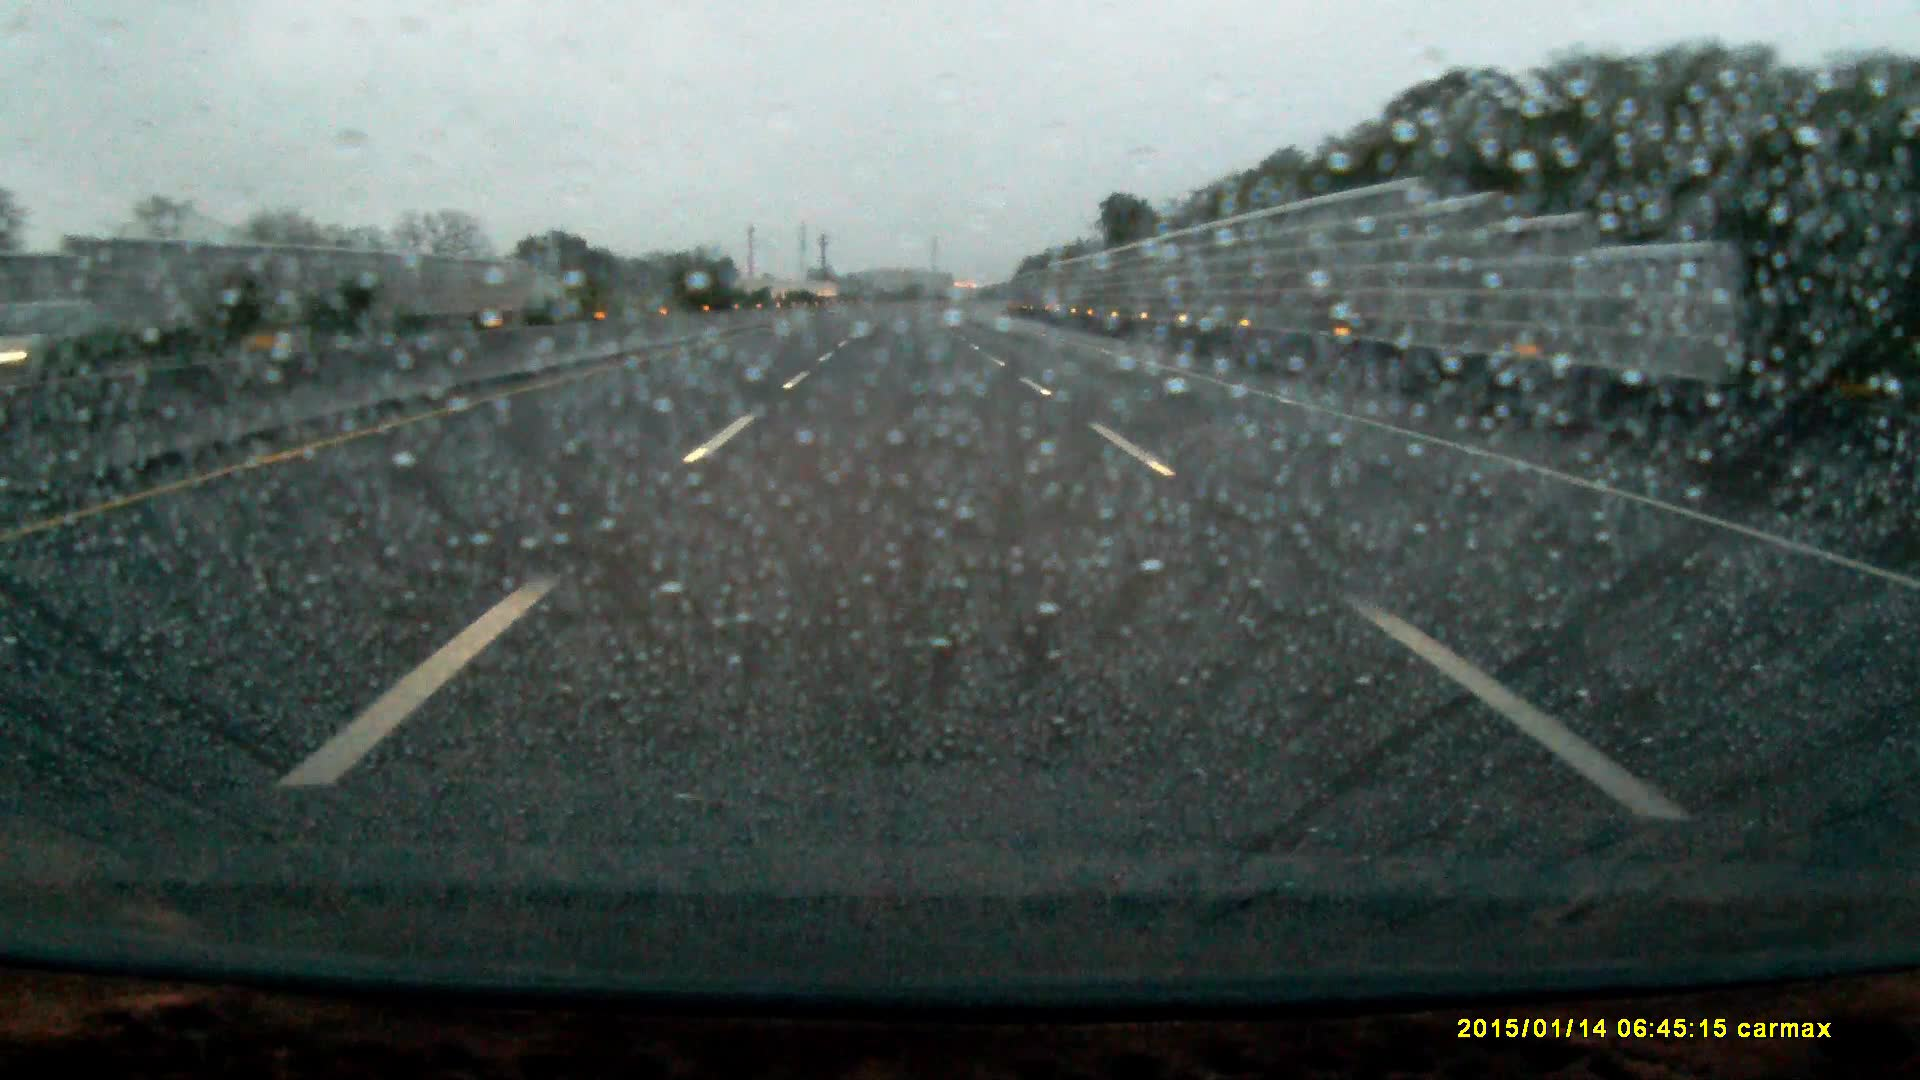vehicle: (1, 299, 123, 371)
